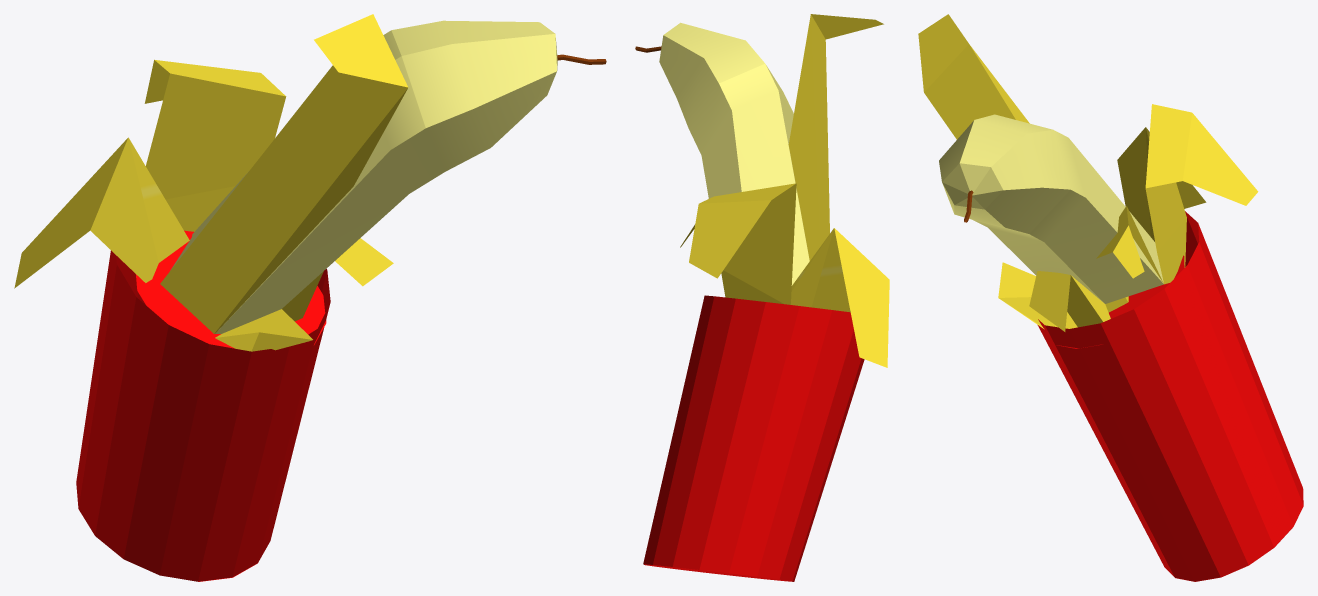
Rendered from boomana.fbx.
3 views of the same model, side by side, from view 1: azimuth 30°, elevation 25°; view 2: azimuth 150°, elevation 25°; view 3: azimuth 270°, elevation 25° (orthographic). The views are drawn at different scales.
Parts seen in each view (by area): view 1: banana, halfDinamite, bottomDinamite1; view 2: halfDinamite, banana; view 3: halfDinamite, banana, bottomDinamite1.
Boxes of the visible parts, x1=… form: banana: x1=14, y1=14, x2=557, y2=351; halfDinamite: x1=76, y1=250, x2=330, y2=581; bottomDinamite1: x1=136, y1=230, x2=326, y2=348; halfDinamite: x1=643, y1=295, x2=864, y2=581; banana: x1=659, y1=14, x2=889, y2=367; halfDinamite: x1=1037, y1=211, x2=1303, y2=581; banana: x1=918, y1=14, x2=1258, y2=331; bottomDinamite1: x1=1056, y1=255, x2=1184, y2=348.
Size of the model in its own units: 1.07 by 1.43 by 0.9387.
